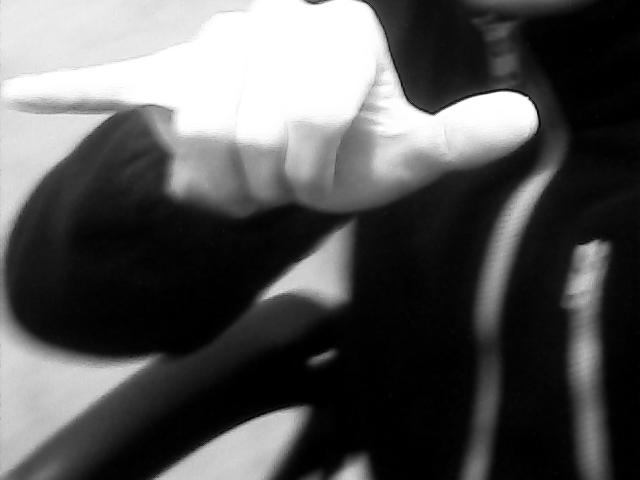aloha: (2, 1, 543, 220)
